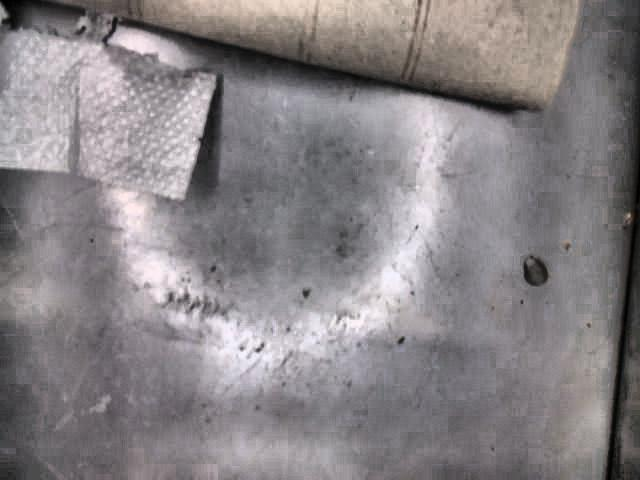Paper: (37, 0, 581, 113), (0, 29, 216, 201)
